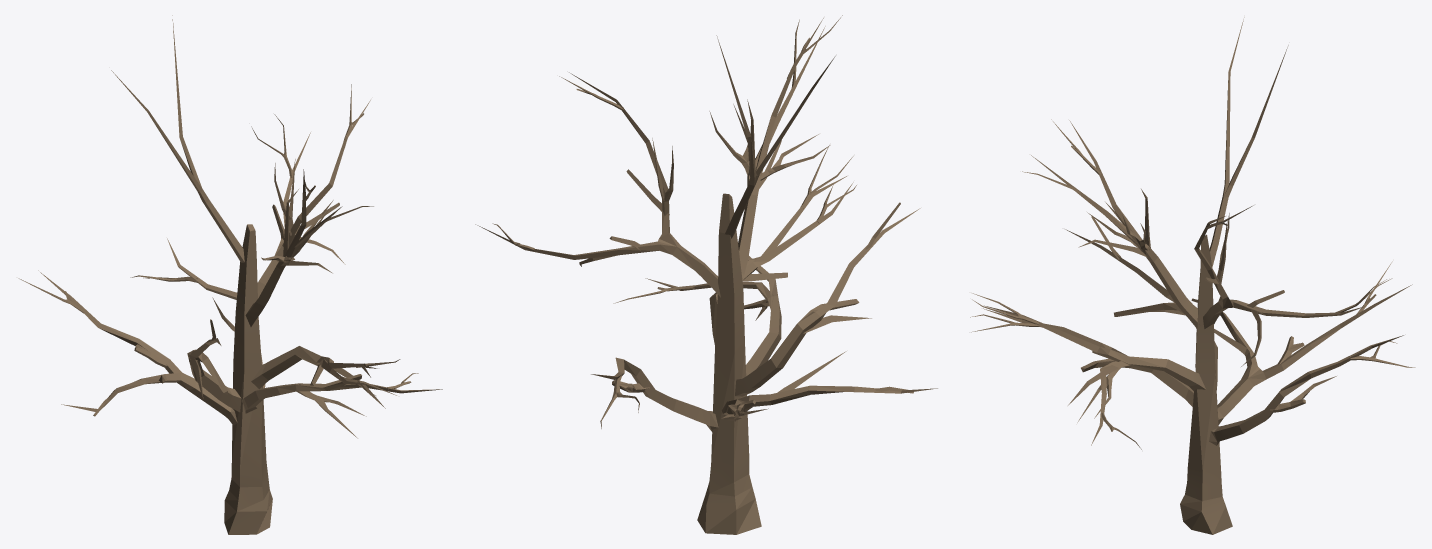
File: tree_bare_a_11.FBX
3 renders of one model, left to right at view 1: azimuth 30°, elevation 25°; view 2: azimuth 150°, elevation 25°; view 3: azimuth 270°, elevation 25°, orthographic. The views are drawn at different scales.
Visible parts, largest first — view 1: tree_bare_a_11; view 2: tree_bare_a_11; view 3: tree_bare_a_11.
Part boxes in pixels (x1,y1,x2,y2): tree_bare_a_11: (18, 15, 442, 534); tree_bare_a_11: (475, 15, 937, 534); tree_bare_a_11: (970, 17, 1415, 534).
Size of the model in its own units: 4.84 by 6.66 by 5.81.
